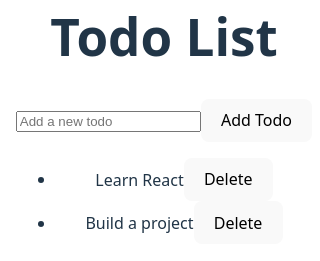
Test: TodoList Component › deletes a todo
What coordinates should you click on to do the following:
click the button "Delete" next to "Build a project"
I would click on:
 (238, 223)
Its box is 194,201 -> 282,244.
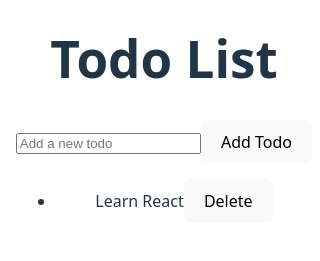
Now the text "Build a project" is gone
